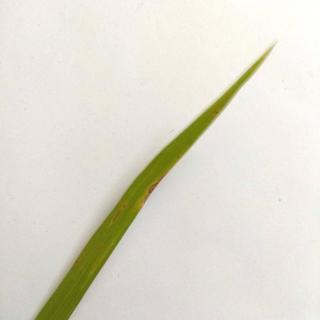Blast: (133, 161, 176, 222)
